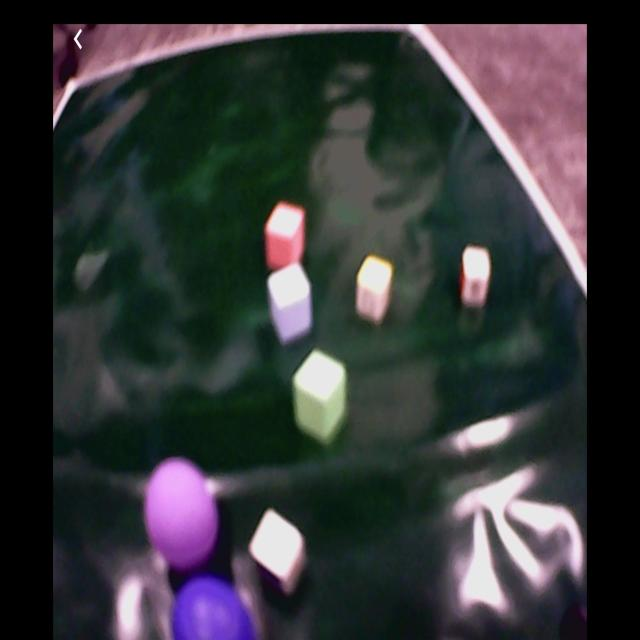ball: (146, 460, 218, 572), (170, 578, 253, 640)
